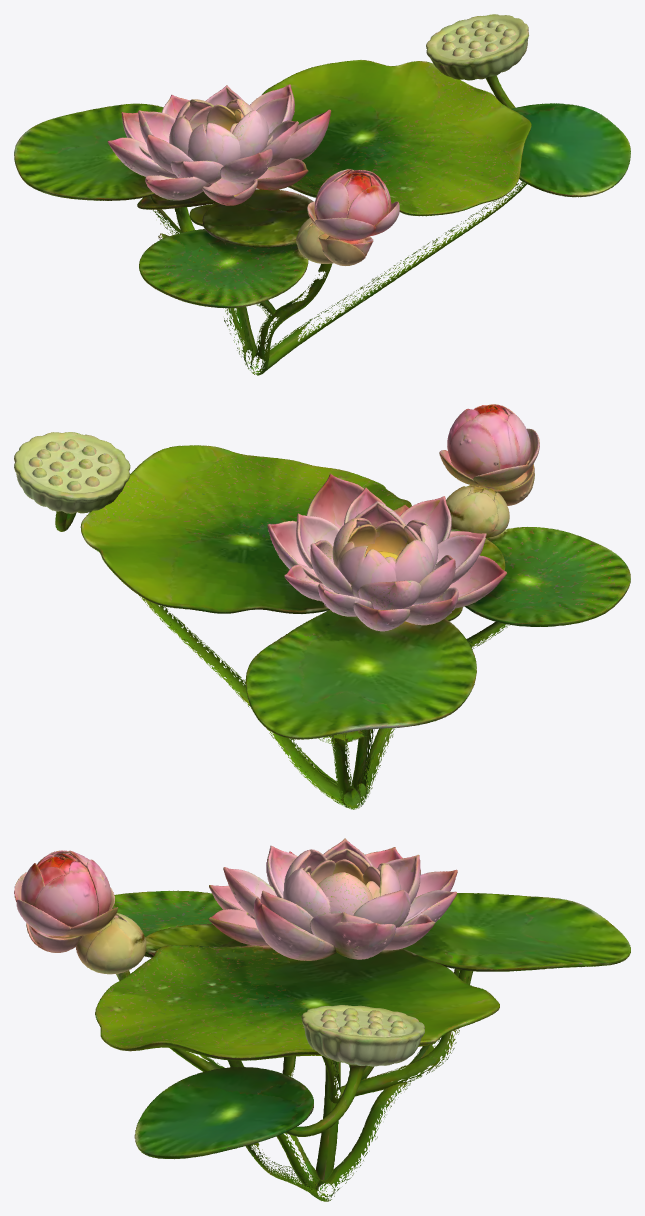
Rendered from ShuiLian.glb.
The picture shows the model from 3 angles, top to bottom: view 1: azimuth 30°, elevation 25°; view 2: azimuth 150°, elevation 25°; view 3: azimuth 270°, elevation 25°; orthographic projection. The views are drawn at different scales.
Visible parts, largest first — view 1: node_0; view 2: node_0; view 3: node_0.
Boxes of the visible parts, x1,y1,x2,y2 form: node_0: (14, 14, 630, 375); node_0: (14, 404, 630, 809); node_0: (14, 838, 630, 1201).
Bounding box in the file's own units: 1.01 × 0.5615 × 0.9369.
1 material, 1 textured.
